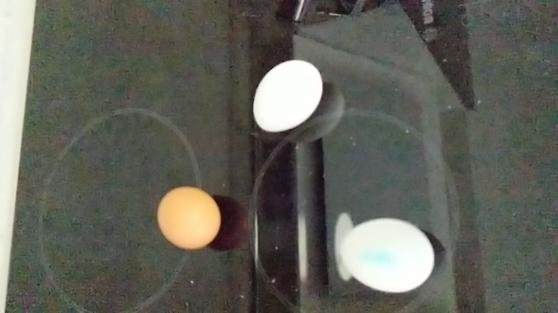egg: (341, 211, 435, 291), (251, 55, 326, 137), (154, 183, 226, 253)
